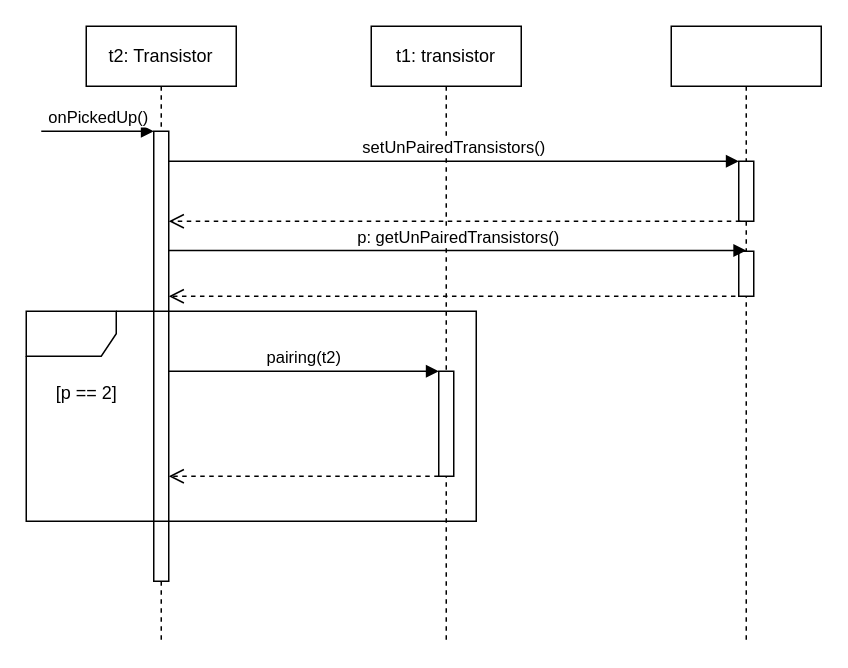
This 848x668 diagram has some shape labels left out. Each missing label, with the centre of its shape:
"c: Character" goes at (x=745, y=333).
"opt" goes at (x=250, y=415).
